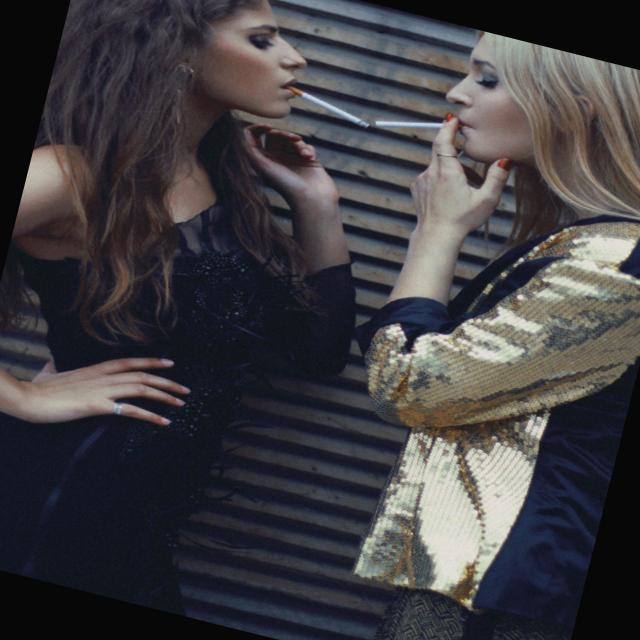cigarette: (370, 103, 450, 146), (286, 91, 366, 127)
